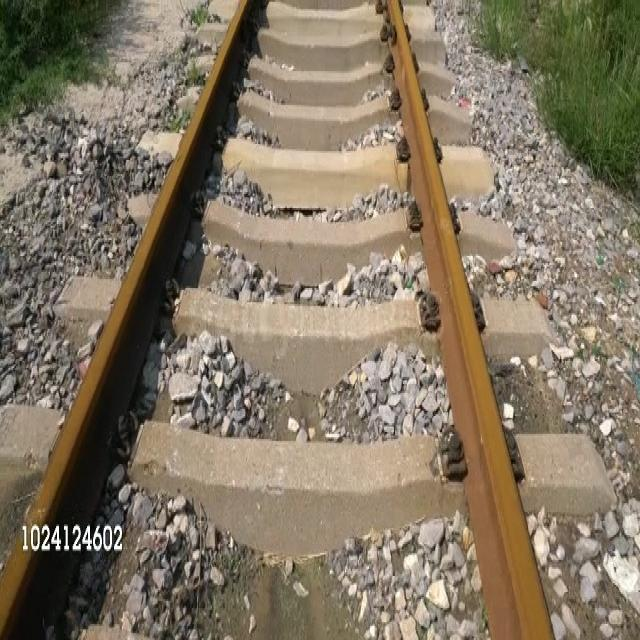Plant: (522, 0, 639, 204), (0, 0, 121, 125), (474, 0, 531, 57), (191, 8, 207, 26), (188, 64, 199, 82)
